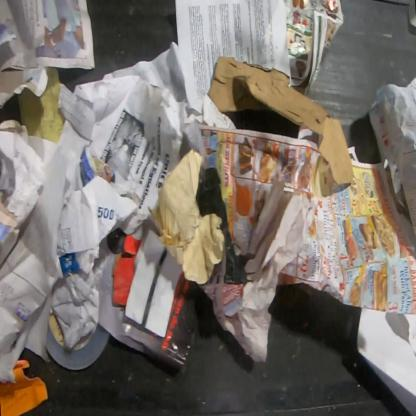cardboard: (208, 55, 353, 185)
rigid_plastic: (46, 312, 110, 370)
